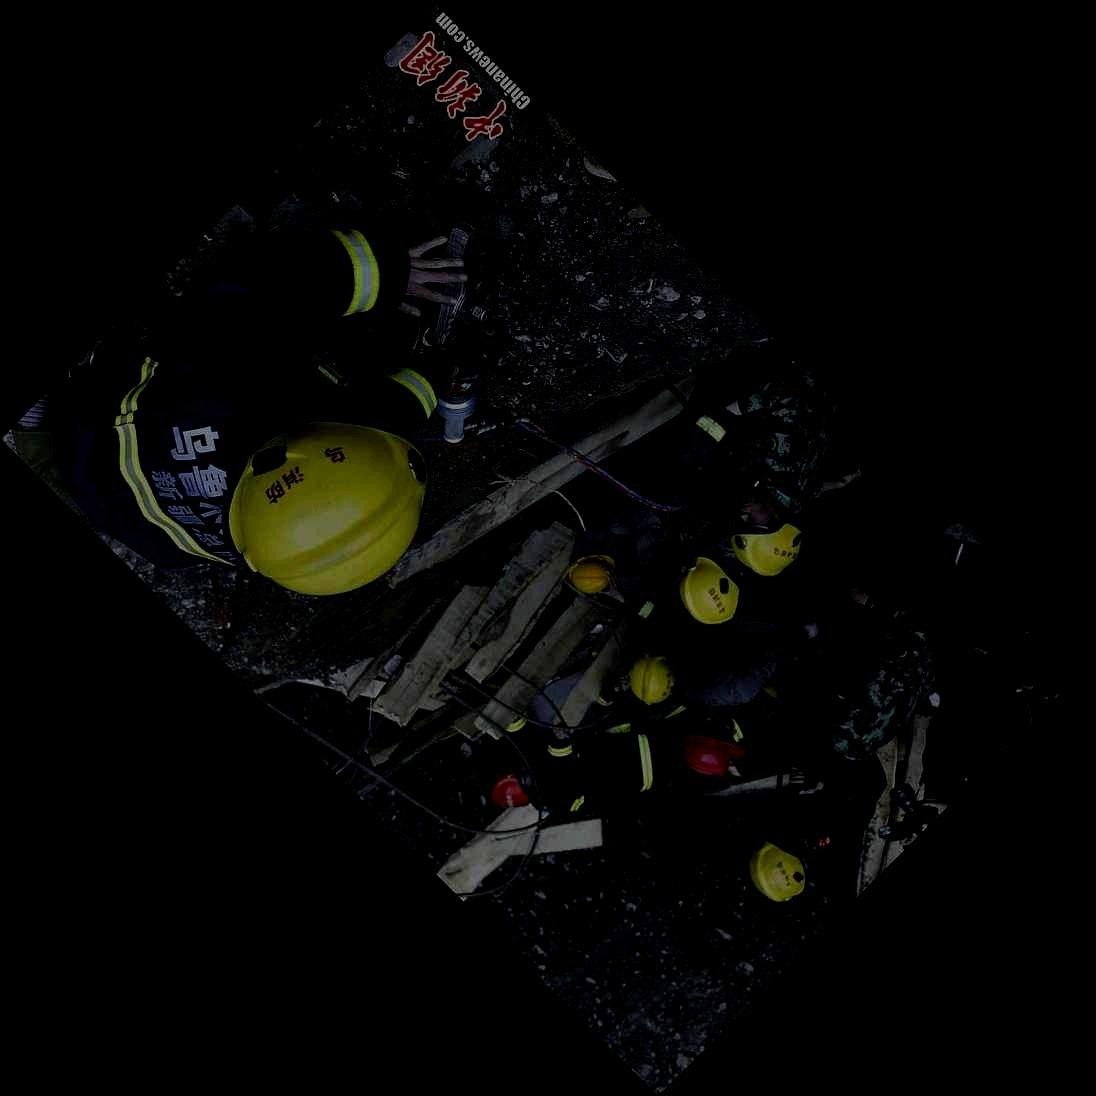helmet: (228, 421, 428, 595), (729, 504, 802, 577), (680, 556, 740, 624), (749, 838, 811, 902), (680, 715, 741, 776), (627, 652, 674, 705), (490, 773, 532, 809)
